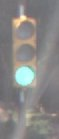Green: (11, 11, 44, 98)
